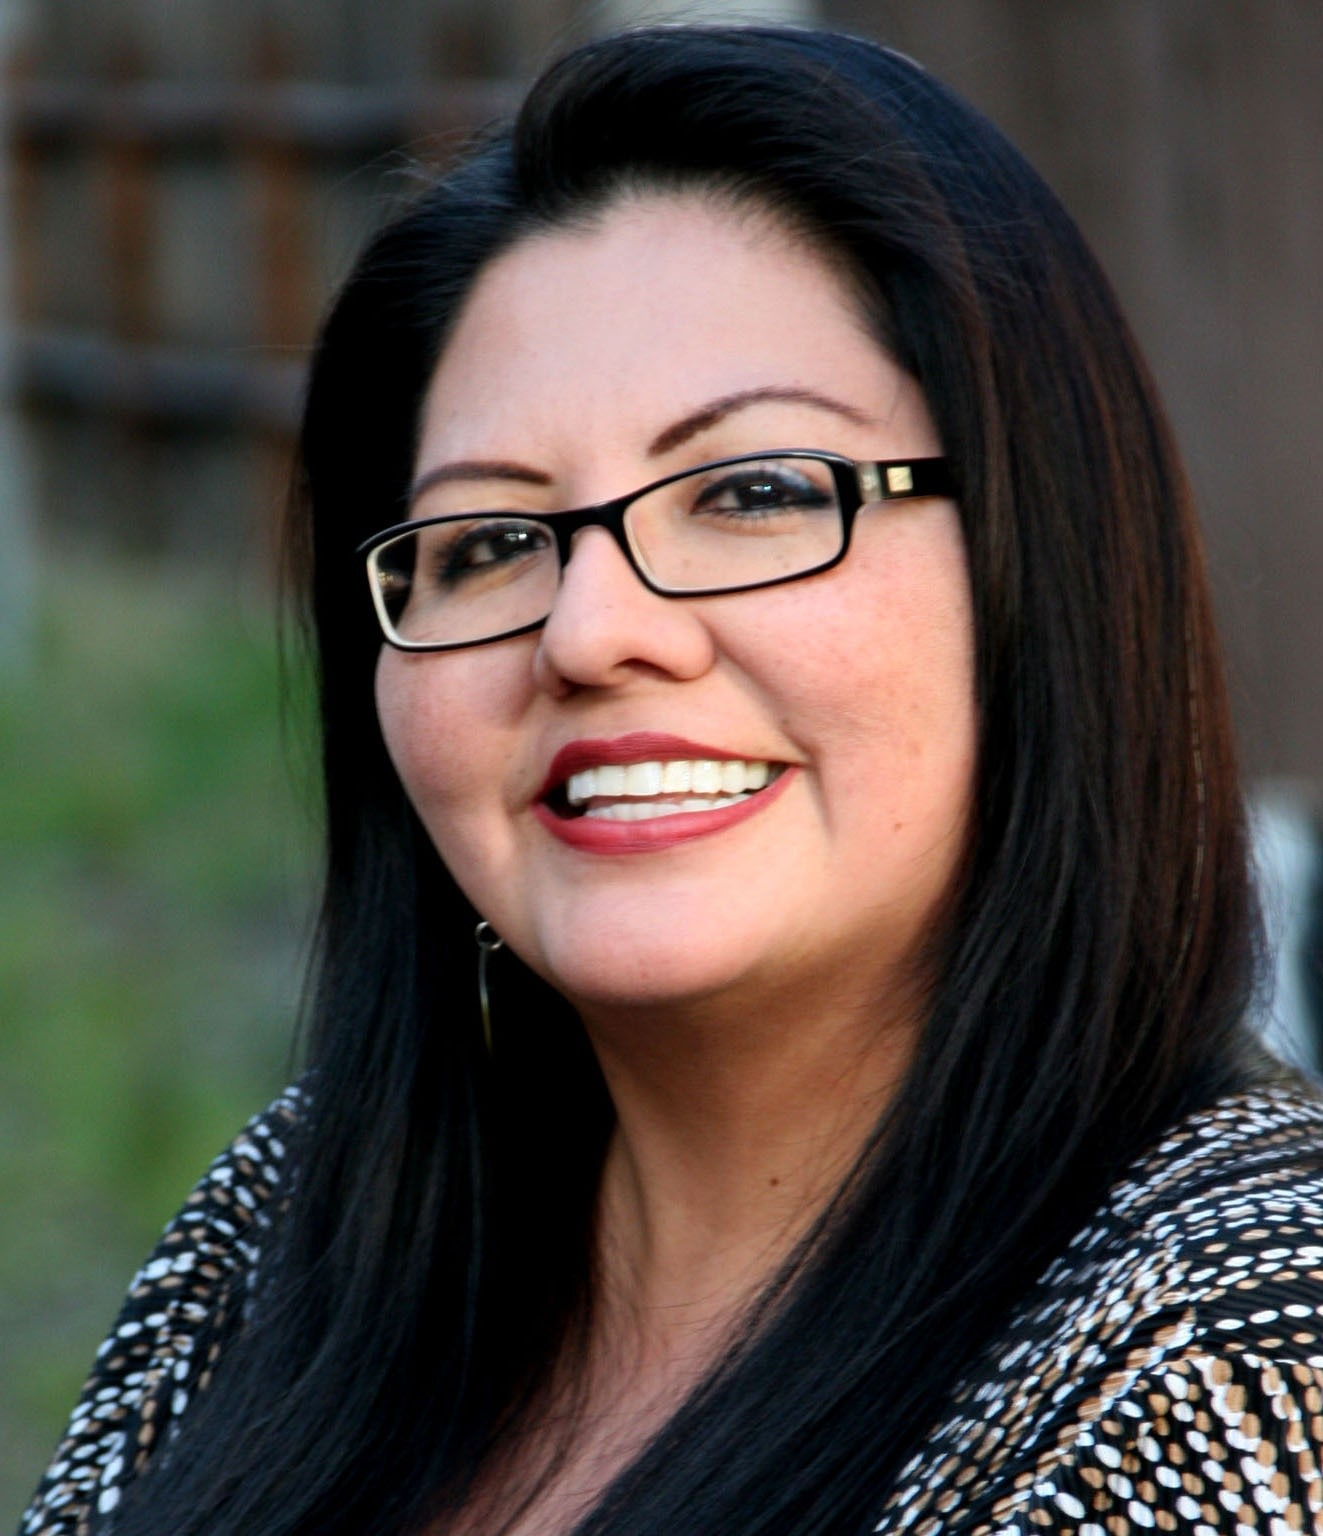face_no_mask: (336, 146, 1023, 1025)
